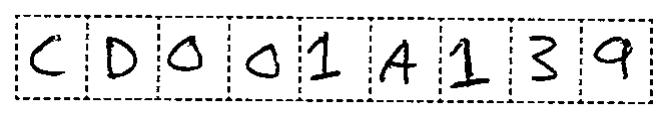0: (164, 31, 208, 80), (242, 38, 286, 82)
1: (447, 34, 492, 96), (304, 29, 347, 86)
3: (526, 31, 564, 86)
9: (590, 32, 636, 85)
A: (377, 36, 421, 90)
C: (25, 31, 70, 81)
D: (97, 31, 146, 83)
